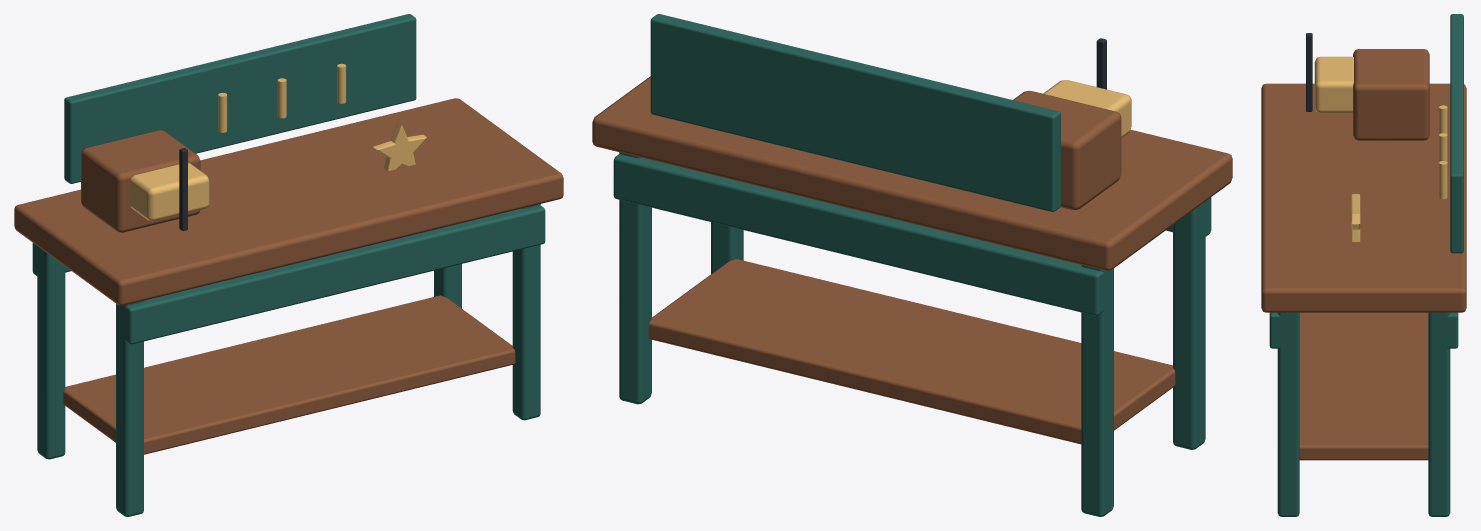
Rendered from christmas-storybook-toy-workbench-d81e0fbd__18770.glb.
3 views of the same model, side by side, from view 1: azimuth 30°, elevation 25°; view 2: azimuth 150°, elevation 25°; view 3: azimuth 270°, elevation 25° (orthographic). The views are drawn at different scales.
Visible parts, largest first — view 1: oak, pine, brass, ink; view 2: pine, oak, brass; view 3: oak, pine, brass, ink.
Part boxes in pixels (x1=…): oak: x1=14, y1=98, x2=563, y2=454; pine: x1=32, y1=14, x2=545, y2=516; brass: x1=130, y1=63, x2=426, y2=221; ink: x1=179, y1=148, x2=187, y2=230; pine: x1=613, y1=14, x2=1211, y2=516; oak: x1=592, y1=76, x2=1232, y2=444; brass: x1=1043, y1=80, x2=1131, y2=138; oak: x1=1261, y1=49, x2=1466, y2=460; pine: x1=1269, y1=14, x2=1463, y2=516; brass: x1=1314, y1=56, x2=1447, y2=241; ink: x1=1306, y1=33, x2=1312, y2=111.
Bounding box in the file's own units: 1.8 × 1.32 × 0.75.
